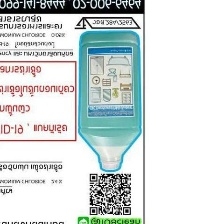cleaning_solution: (74, 27, 142, 174)
